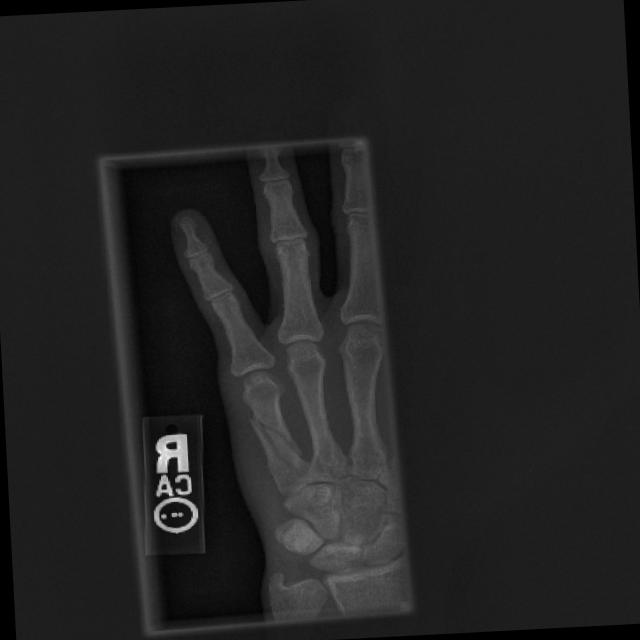fingers positive: (229, 381, 319, 499)
